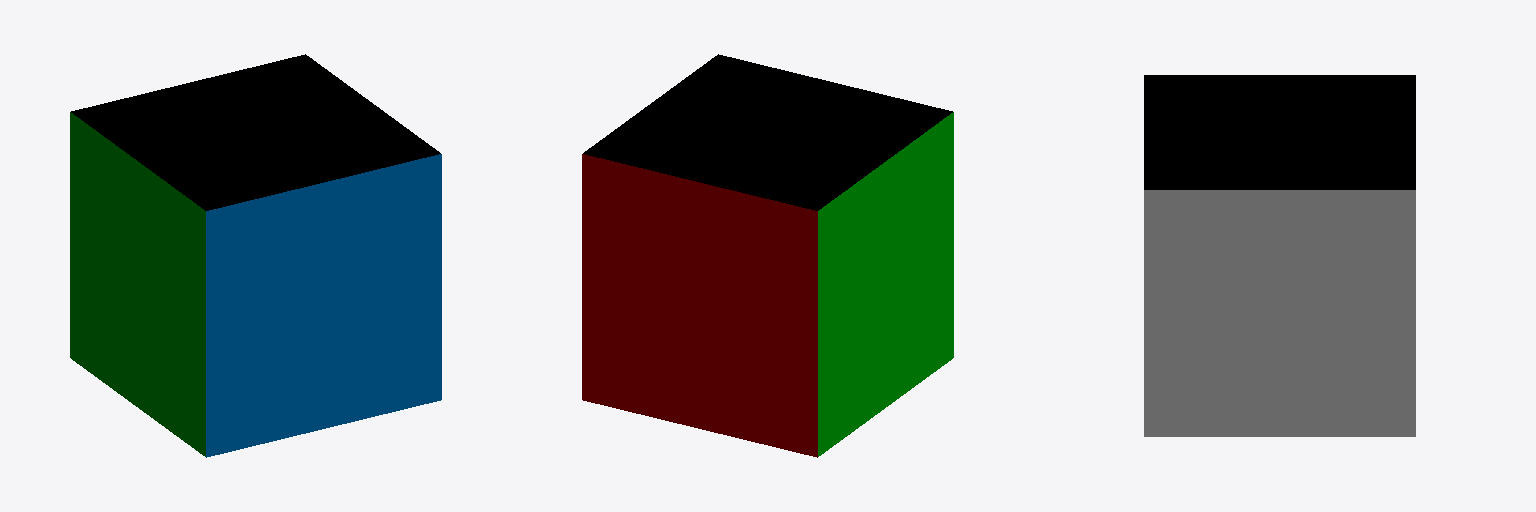
The model's file is 'Cornellbox'-test3.obj.
The picture shows the model from 3 angles: view 1: azimuth 30°, elevation 25°; view 2: azimuth 150°, elevation 25°; view 3: azimuth 270°, elevation 25°; orthographic projection.
Parts seen in each view (by area): view 1: right_wall_Plane.003, front_wall_Plane.005, ceiling_Plane.007; view 2: left_wall_Plane.002, front_wall_Plane.005, ceiling_Plane.007; view 3: back_wall_Plane.001, ceiling_Plane.007.
Boxes of the visible parts, x1,y1,x2,y2 form: right_wall_Plane.003: [206, 154, 441, 457]; front_wall_Plane.005: [70, 112, 205, 456]; ceiling_Plane.007: [71, 54, 440, 210]; left_wall_Plane.002: [582, 154, 817, 457]; front_wall_Plane.005: [818, 112, 953, 456]; ceiling_Plane.007: [583, 54, 952, 210]; back_wall_Plane.001: [1144, 190, 1415, 436]; ceiling_Plane.007: [1144, 75, 1415, 189].
Bounding box in the file's own units: 10 × 10 × 10.